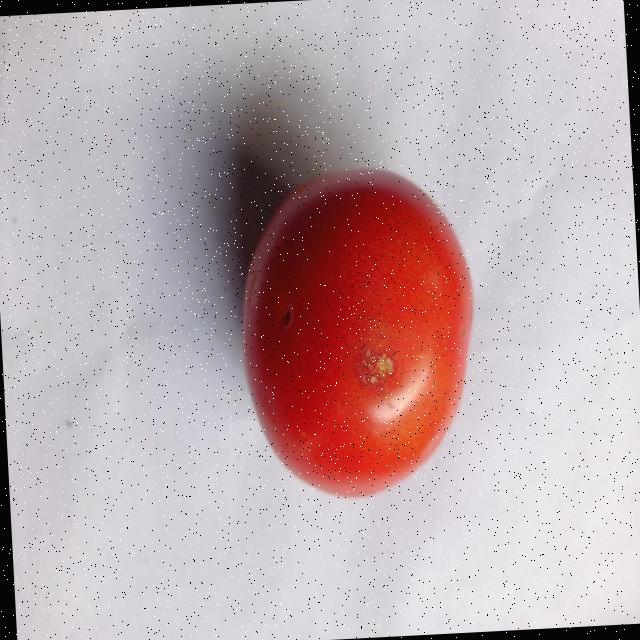Ripe: (225, 158, 488, 513)
